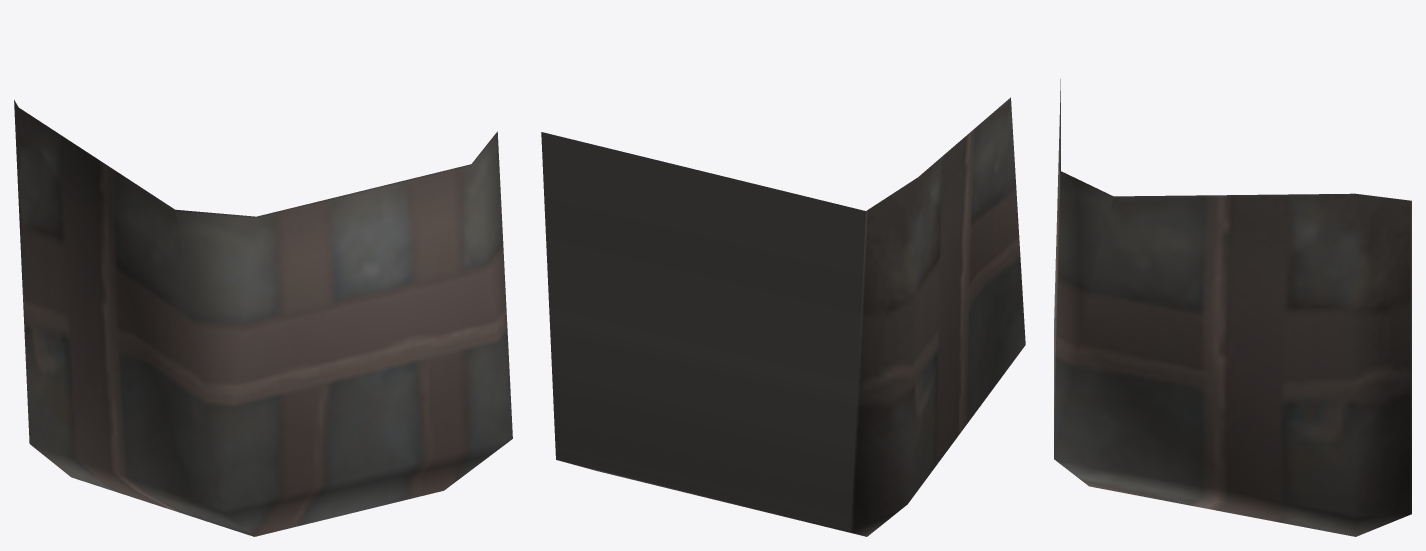
Rendered from breakable.glb.
The picture shows the model from 3 angles, left to right: view 1: azimuth 30°, elevation 25°; view 2: azimuth 150°, elevation 25°; view 3: azimuth 270°, elevation 25°; orthographic projection. The views are drawn at different scales.
Visible parts, largest first — view 1: city_base.breakable-Mesh[0]; view 2: city_base.breakable-Mesh[0]; view 3: city_base.breakable-Mesh[0].
Part boxes in pixels (x1=…): city_base.breakable-Mesh[0]: x1=14, y1=100, x2=512, y2=536; city_base.breakable-Mesh[0]: x1=541, y1=97, x2=1025, y2=536; city_base.breakable-Mesh[0]: x1=1054, y1=79, x2=1411, y2=536.
Size of the model in its own units: 1.21 by 1.16 by 1.02.
1 material, 1 textured.
